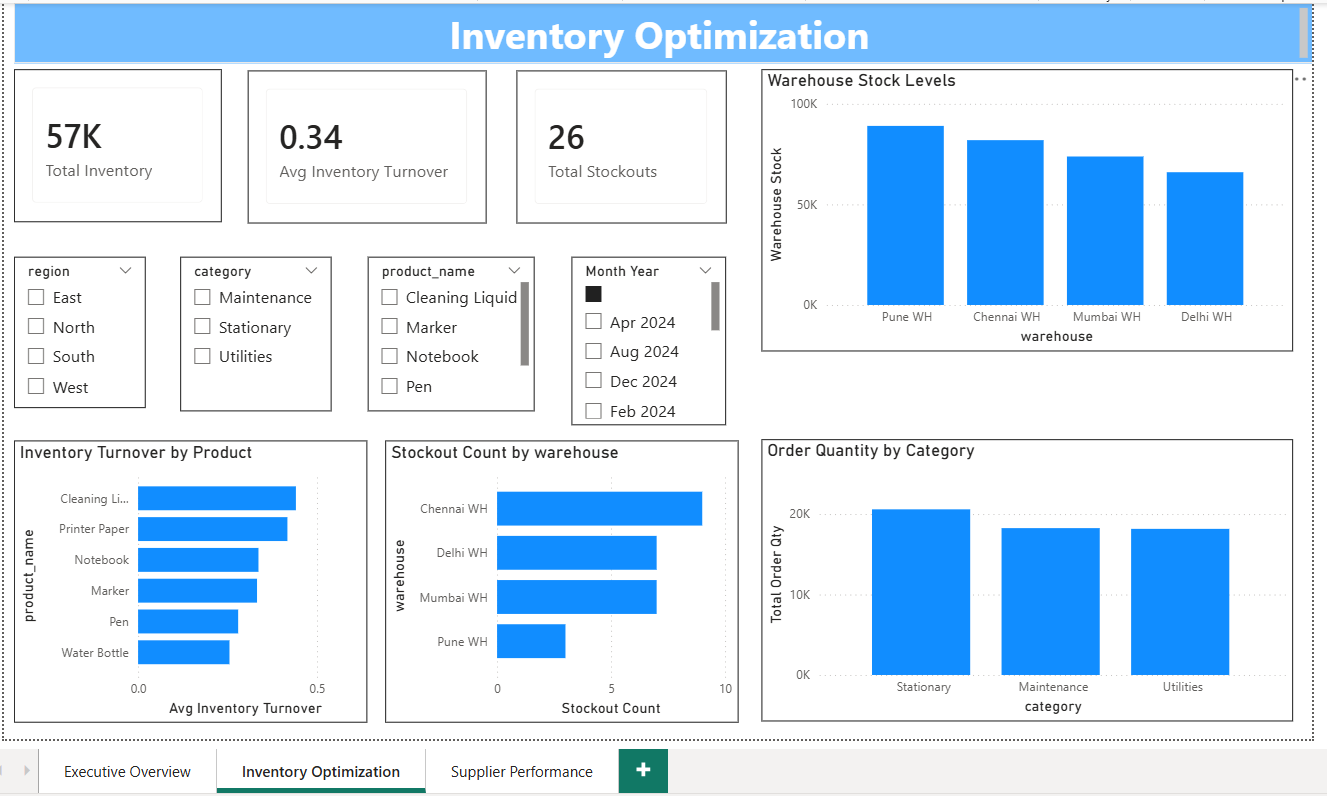

Layout of this report page (visuals, bound fields, positions):
{"tool":"powerbi","page":{"name":"Inventory Optimization","canvas":[1280,720],"ordinal":1},"visuals":[{"type":"textbox","box":[9.6,0,1270.7,59],"z":0},{"type":"barChart","title":"Inventory Turnover by Product","fields":{"Category":["supply_chain_cleaned.product_name"],"Y":["supply_chain_cleaned.Avg Inventory Turnover"]},"box":[9.6,428.1,345.8,275.8],"z":1000},{"type":"columnChart","title":"Warehouse Stock Levels","fields":{"Category":["supply_chain_cleaned.warehouse"],"Y":["supply_chain_cleaned.Warehouse Stock"]},"box":[741,64.5,520.1,275.8],"z":2000},{"type":"barChart","fields":{"Category":["supply_chain_cleaned.warehouse"],"Y":["supply_chain_cleaned.Stockout Count"]},"box":[373.2,428.1,345.8,275.8],"z":3000},{"type":"columnChart","title":"Order Quantity by Category","fields":{"Category":["supply_chain_cleaned.category"],"Y":["supply_chain_cleaned.Total Order Qty"]},"box":[741,426.8,520.1,275.8],"z":4000},{"type":"slicer","fields":{"Values":["supply_chain_cleaned.region"]},"box":[9.6,248.4,129,148.2],"z":5000},{"type":"slicer","fields":{"Values":["supply_chain_cleaned.category"]},"box":[172.9,248.4,148.2,150.9],"z":6000},{"type":"slicer","fields":{"Values":["supply_chain_cleaned.product_name"]},"box":[355.4,248.4,163.3,150.9],"z":7000},{"type":"slicer","fields":{"Values":["supply_chain_cleaned.Month Year"]},"box":[555.7,248.4,150.9,164.7],"z":8000},{"type":"cardVisual","fields":{"Data":["supply_chain_cleaned.Total Inventory"]},"box":[9.6,64.5,203.1,149.6],"z":9000},{"type":"cardVisual","fields":{"Data":["supply_chain_cleaned.Avg Inventory Turnover"]},"box":[238.8,65.9,233.3,149.6],"z":10000},{"type":"cardVisual","fields":{"Data":["supply_chain_cleaned.Total Stockouts"]},"box":[500.9,65.9,205.8,149.6],"z":11000}]}

Visuals, with their boxes in screenshot pixels (x1, y1, x2, y2):
textbox: <region>10, 0, 1309, 60</region>
"Inventory Turnover by Product" barChart: <region>10, 438, 363, 720</region>
"Warehouse Stock Levels" columnChart: <region>758, 66, 1289, 348</region>
barChart - supply_chain_cleaned.warehouse x supply_chain_cleaned.Stockout Count: <region>382, 438, 735, 720</region>
"Order Quantity by Category" columnChart: <region>758, 436, 1289, 718</region>
slicer - supply_chain_cleaned.region: <region>10, 254, 142, 405</region>
slicer - supply_chain_cleaned.category: <region>177, 254, 328, 408</region>
slicer - supply_chain_cleaned.product_name: <region>363, 254, 530, 408</region>
slicer - supply_chain_cleaned.Month Year: <region>568, 254, 722, 422</region>
cardVisual - supply_chain_cleaned.Total Inventory: <region>10, 66, 217, 219</region>
cardVisual - supply_chain_cleaned.Avg Inventory Turnover: <region>244, 67, 483, 220</region>
cardVisual - supply_chain_cleaned.Total Stockouts: <region>512, 67, 723, 220</region>
